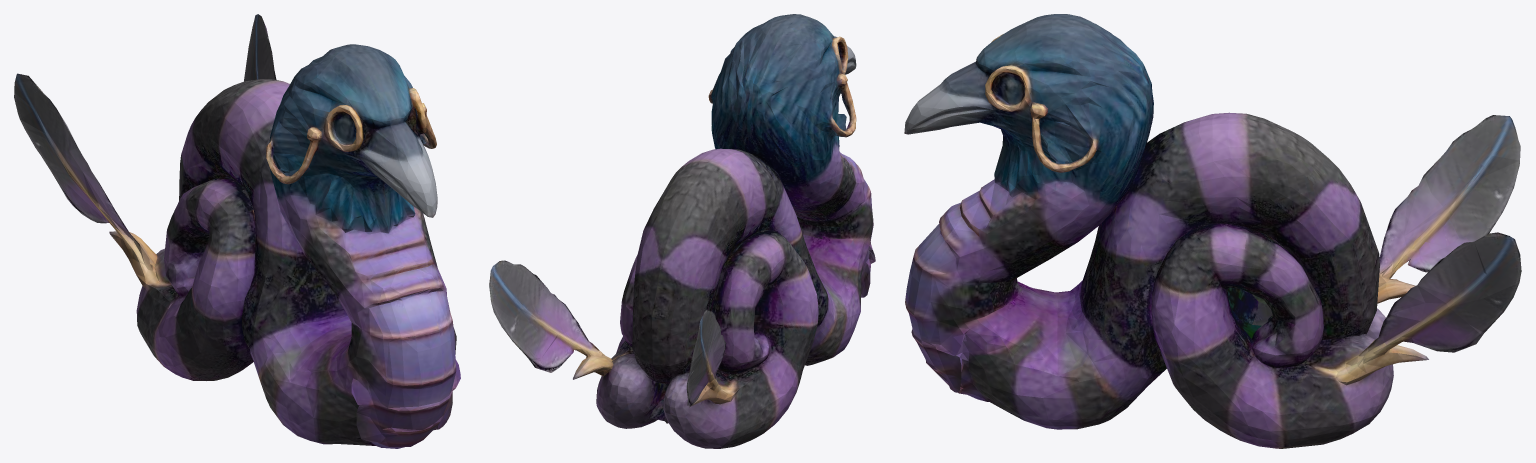
File: duskcoil__coilmonger.glb
The picture shows the model from 3 angles, left to right: view 1: azimuth 30°, elevation 25°; view 2: azimuth 150°, elevation 25°; view 3: azimuth 270°, elevation 25°; orthographic projection. The views are drawn at different scales.
Parts seen in each view (by area): view 1: world; view 2: world; view 3: world.
Part boxes in pixels (x1,y1,x2,y2): world: (14,14,460,448); world: (489,14,875,448); world: (904,14,1521,448).
Bounding box in the file's own units: 0.4617 × 0.7104 × 0.9979.
Materials: 1 (1 with a texture image).
